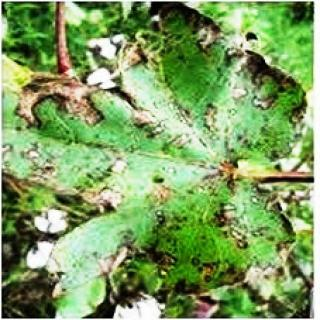blight: (24, 8, 304, 154), (17, 171, 296, 312)
